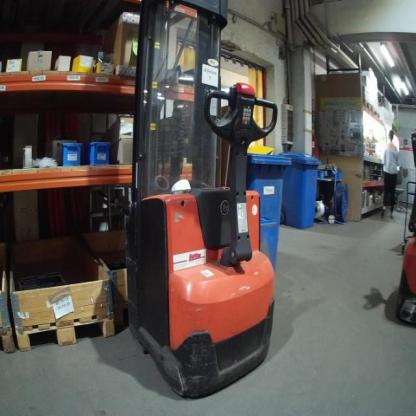pallet: (18, 305, 118, 354), (1, 324, 16, 357), (362, 97, 375, 117)
pallet_truck: (108, 1, 281, 407), (391, 130, 416, 323)
small_load_carrier: (87, 142, 109, 163), (60, 142, 80, 164)
